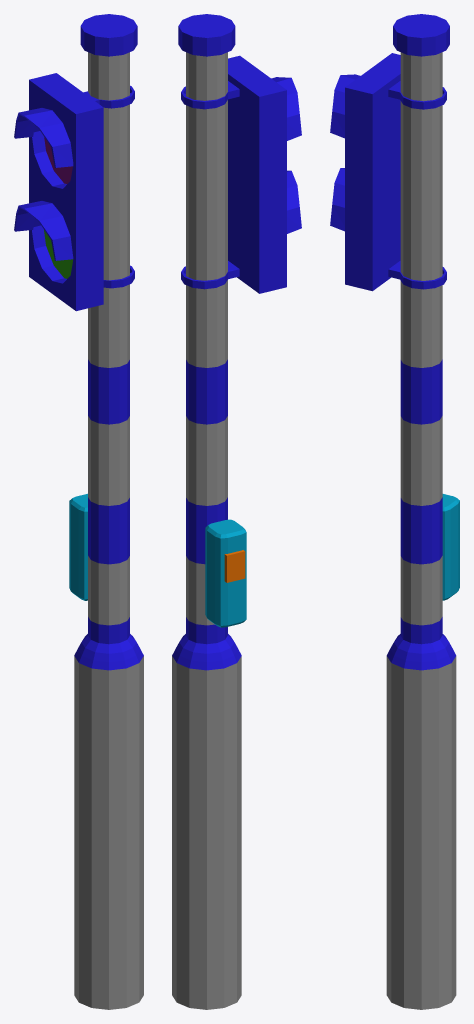
The model's file is Stoplicht_Voetgangers.FBX.
3 views of the same model, side by side, from view 1: azimuth 30°, elevation 25°; view 2: azimuth 210°, elevation 25°; view 3: azimuth 330°, elevation 25° (orthographic).
Visible parts, largest first — view 1: Stoplicht003; view 2: Stoplicht003; view 3: Stoplicht003.
Boxes of the visible parts, x1,y1,x2,y2 form: Stoplicht003: [14, 14, 143, 1009]; Stoplicht003: [172, 14, 301, 1009]; Stoplicht003: [330, 14, 459, 1009].
Bounding box in the file's own units: 26.23 × 215 × 20.35.
